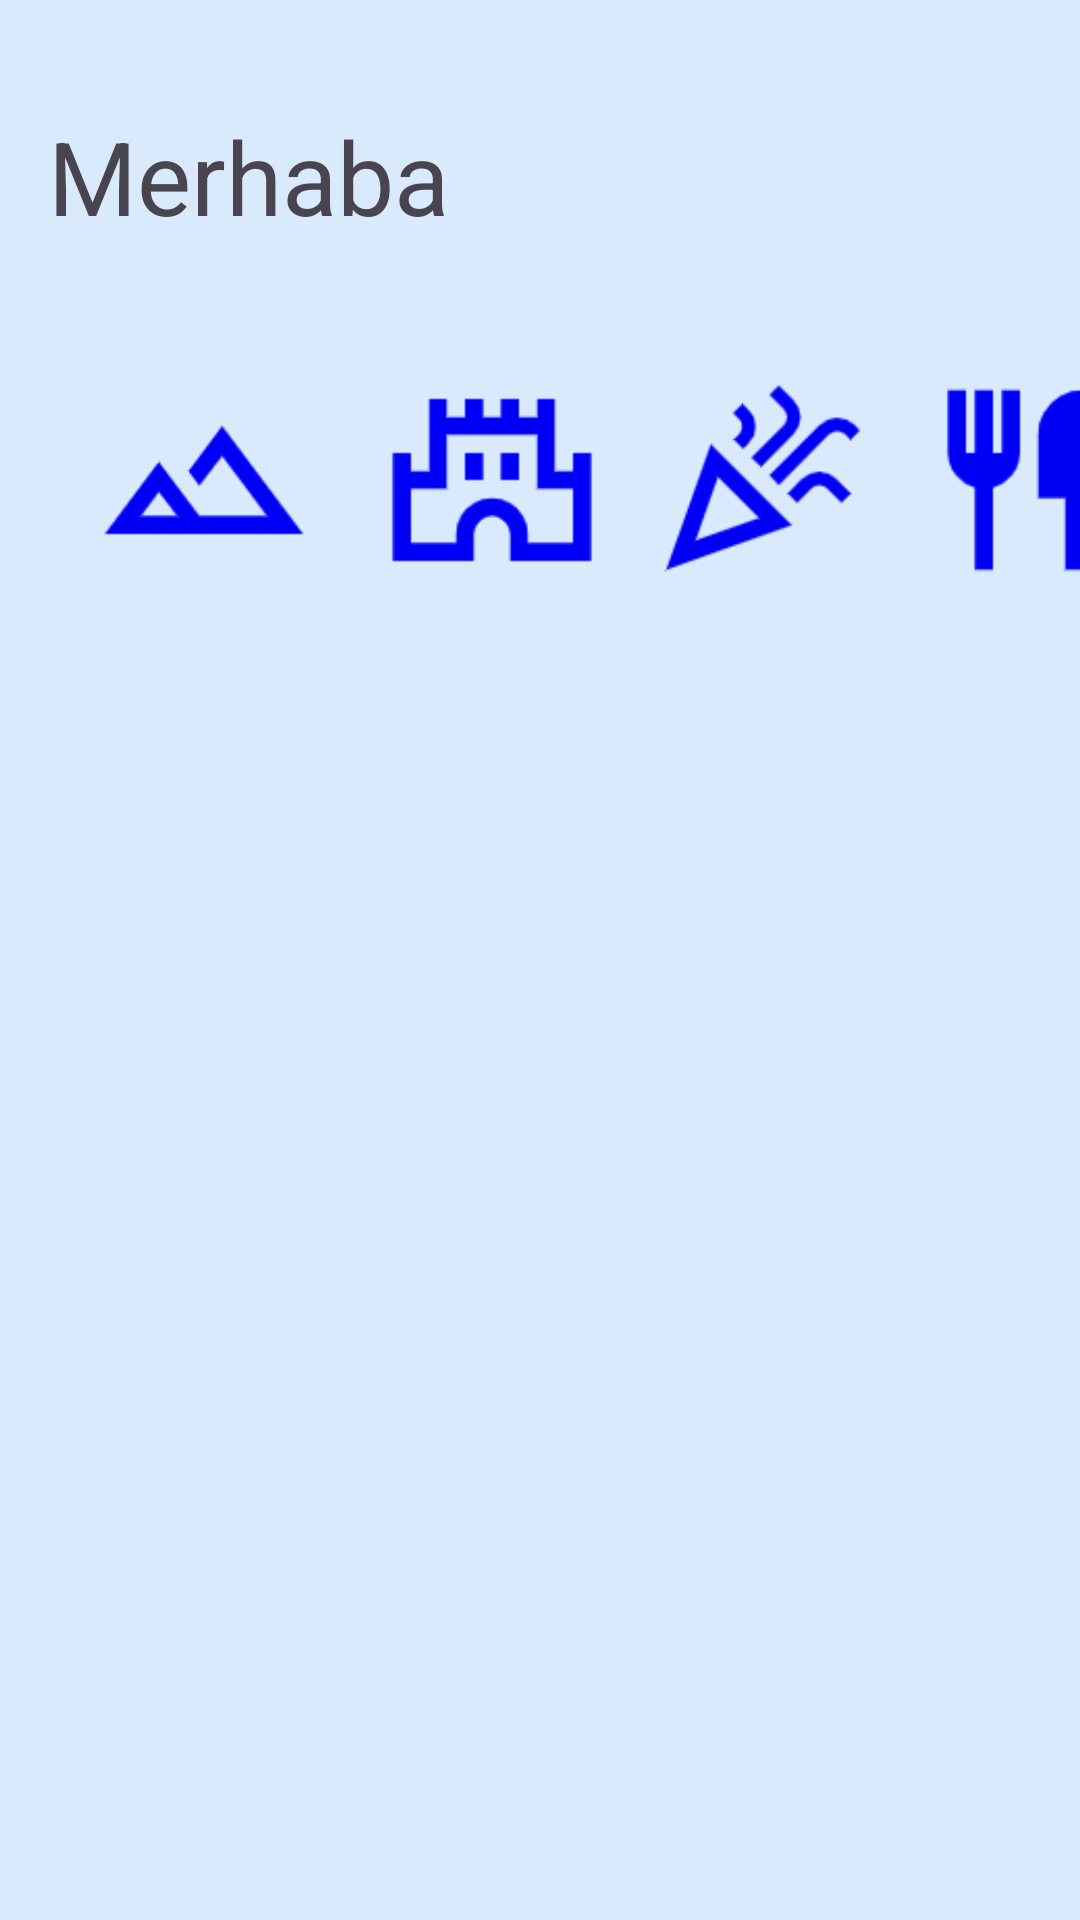

Where icons sit on this 1080 × 1920 app screen, as rect(x1, y1, x2, y2):
castle: rect(392, 398, 592, 562)
fun: rect(664, 385, 861, 572)
nature: rect(104, 425, 304, 535)
